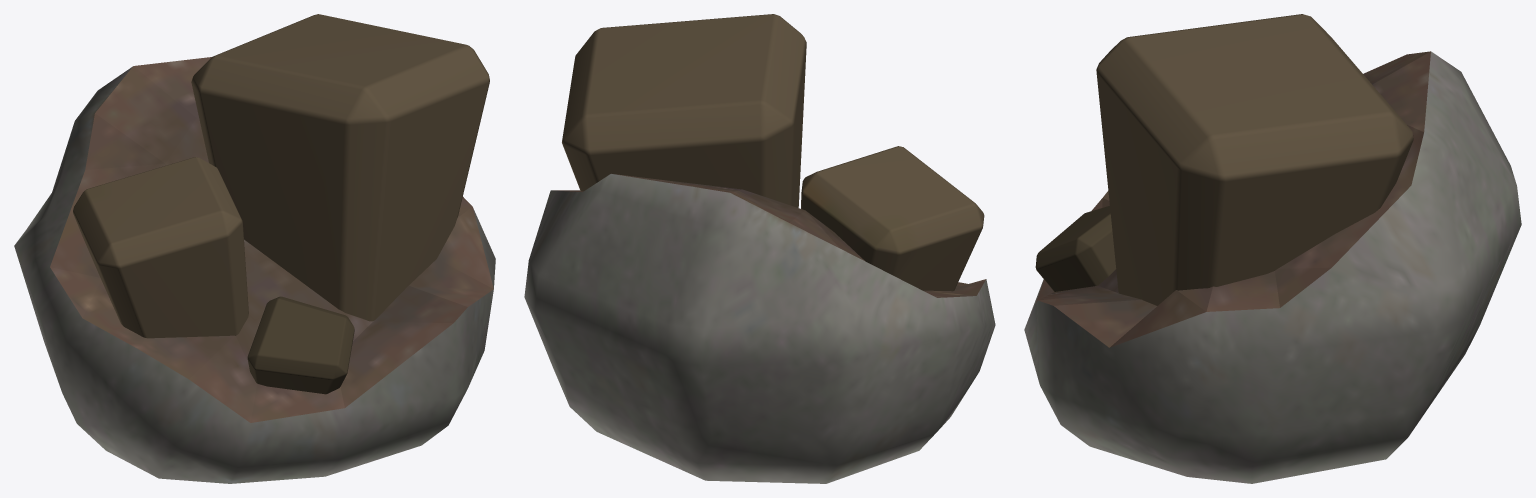
Rendered from UnitIconIron.glb.
3 views of the same model, side by side, from view 1: azimuth 30°, elevation 25°; view 2: azimuth 150°, elevation 25°; view 3: azimuth 270°, elevation 25° (orthographic). The views are drawn at different scales.
Parts seen in each view (by area): view 1: Body__mBody; view 2: Body__mBody; view 3: Body__mBody.
Boxes of the visible parts, box(x1,y1,x2,y2) form: Body__mBody: box(14, 14, 495, 483); Body__mBody: box(524, 14, 995, 483); Body__mBody: box(1024, 14, 1521, 483).
Bounding box in the file's own units: 3.42 × 2.78 × 3.22.
Materials: 1 (1 with a texture image).
